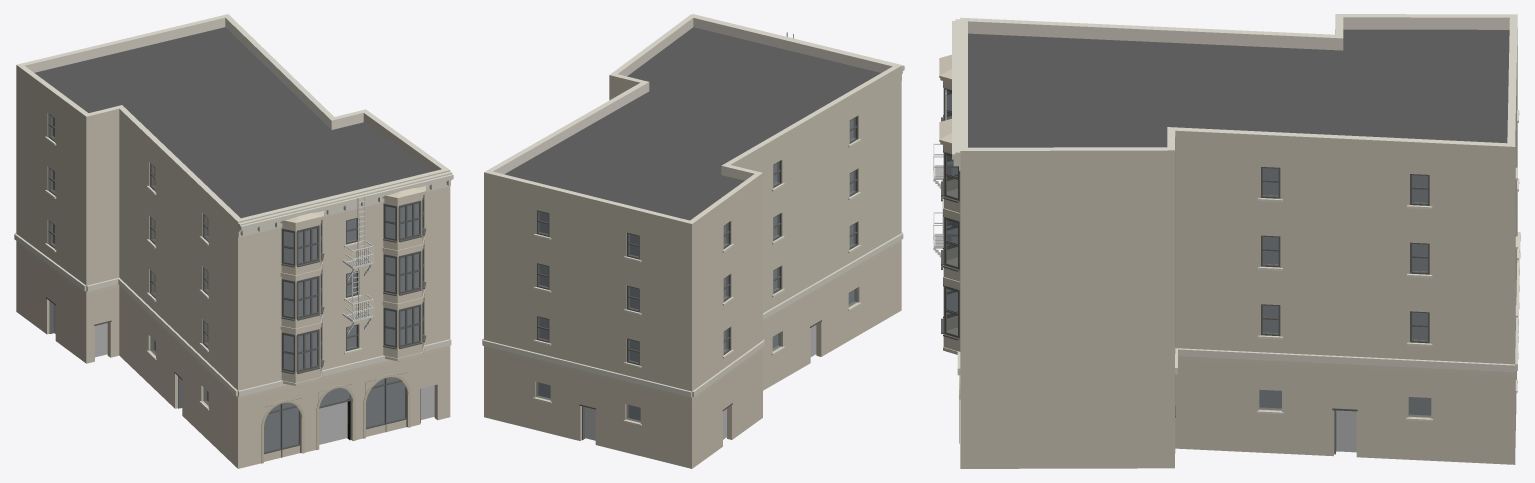
The model's file is exterior.glb.
3 renders of one model, left to right at view 1: azimuth 30°, elevation 25°; view 2: azimuth 150°, elevation 25°; view 3: azimuth 270°, elevation 25°, orthographic. The views are drawn at different scales.
Parts seen in each view (by area): view 1: shell, roof, shadow-proxy, bay-glazing-hyb, trim, bay-windows-hyb, glazing, storefront, hyC-arches-3, fire-escape, frames; view 2: shell, roof, trim, glazing, shadow-proxy, frames; view 3: shell, roof, trim, shadow-proxy, glazing, bay-glazing-hyb, bay-windows-hyb, frames, fire-escape.
Boxes of the visible parts, x1=… form: shell: x1=16, y1=14, x2=450, y2=468; roof: x1=34, y1=27, x2=431, y2=218; shadow-proxy: x1=53, y1=118, x2=434, y2=452; bay-glazing-hyb: x1=281, y1=195, x2=426, y2=374; trim: x1=14, y1=136, x2=453, y2=410; bay-windows-hyb: x1=280, y1=186, x2=426, y2=386; glazing: x1=50, y1=115, x2=405, y2=452; storefront: x1=46, y1=297, x2=420, y2=461; hyC-arches-3: x1=261, y1=372, x2=410, y2=463; fire-escape: x1=342, y1=196, x2=373, y2=333; frames: x1=48, y1=113, x2=358, y2=351; shell: x1=484, y1=14, x2=901, y2=468; roof: x1=504, y1=27, x2=880, y2=220; trim: x1=482, y1=14, x2=904, y2=425; glazing: x1=536, y1=117, x2=857, y2=422; shadow-proxy: x1=538, y1=119, x2=853, y2=440; frames: x1=536, y1=116, x2=857, y2=365; shell: x1=960, y1=14, x2=1517, y2=468; roof: x1=968, y1=29, x2=1509, y2=147; trim: x1=952, y1=19, x2=1520, y2=421; shadow-proxy: x1=1260, y1=168, x2=1430, y2=452; glazing: x1=1259, y1=168, x2=1431, y2=417; bay-glazing-hyb: x1=941, y1=81, x2=959, y2=340; bay-windows-hyb: x1=939, y1=54, x2=960, y2=354; frames: x1=1261, y1=167, x2=1429, y2=343; fire-escape: x1=933, y1=89, x2=957, y2=257.
Size of the model in its own units: 14.15 by 15.17 by 25.39.
